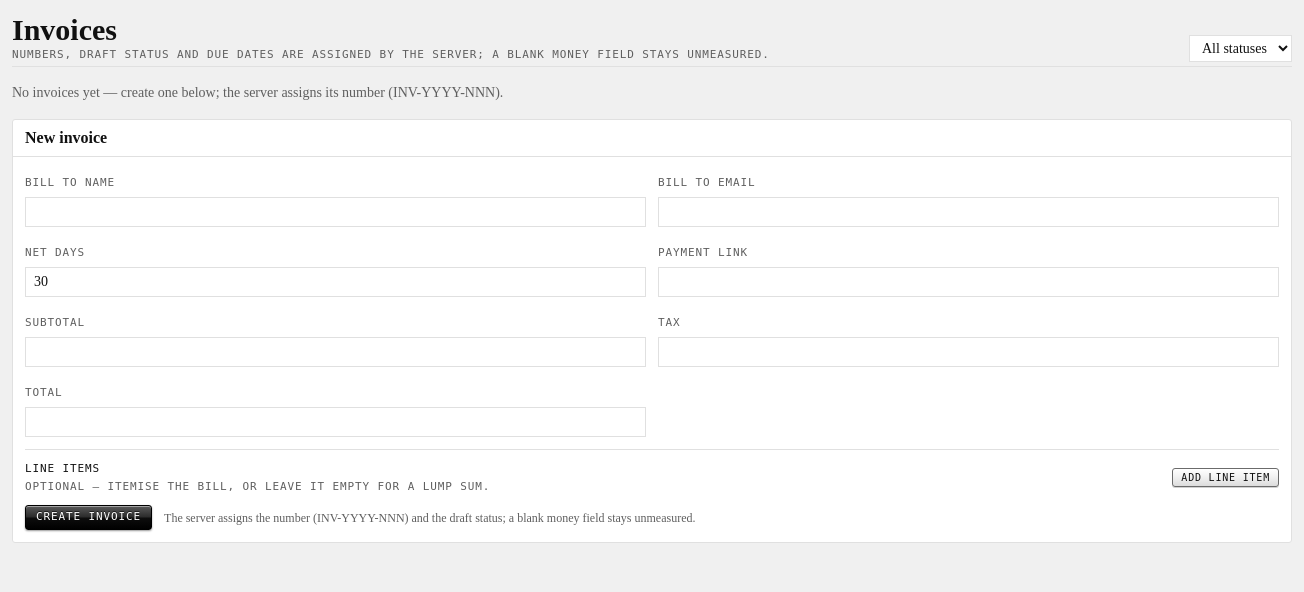
Scenario: InvoicesPage — create (POST /invoices) › renders a create refusal as ApiError.display — no invented invoice
Expected: the text with test id "invoices-empty" is shown, [12,85,503,100]
Type "Acme Co" into the field labelled "Bill to name" at (336, 212), box [25,197,646,227]
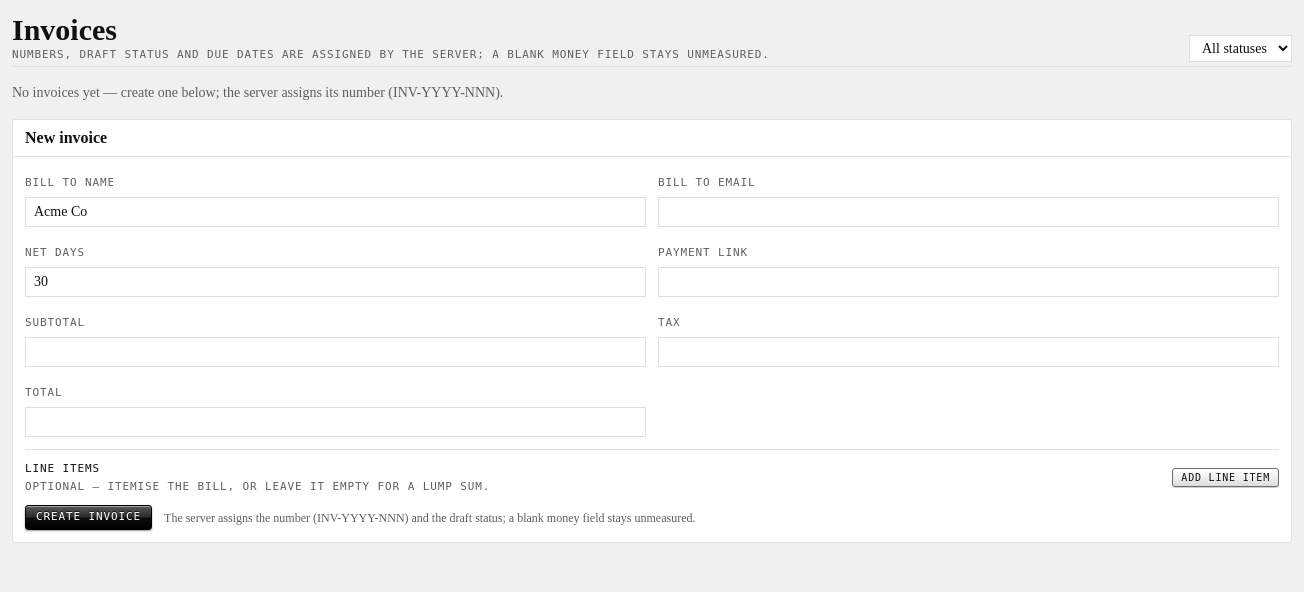
Click the button "Create invoice" at (88, 518), box [25,505,152,530]
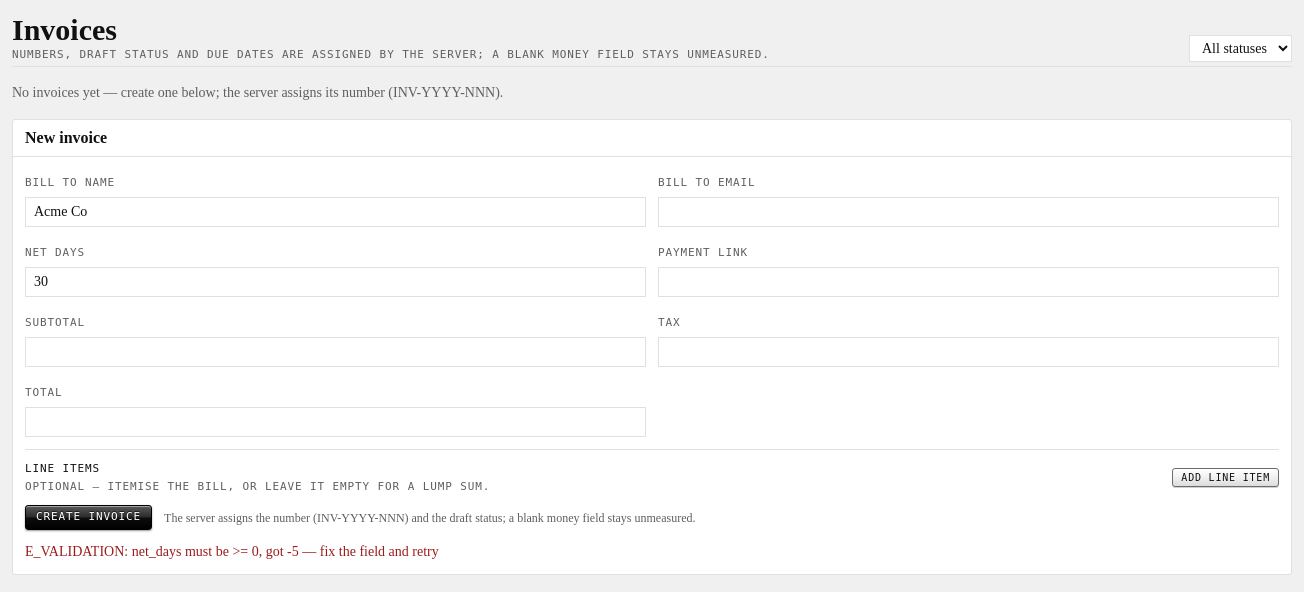
Expected: the message with test id "invoice-create-error" reads "E_VALIDATION: net_days must be >= 0, got -5 — fix the field and retry", [25,544,439,559]
